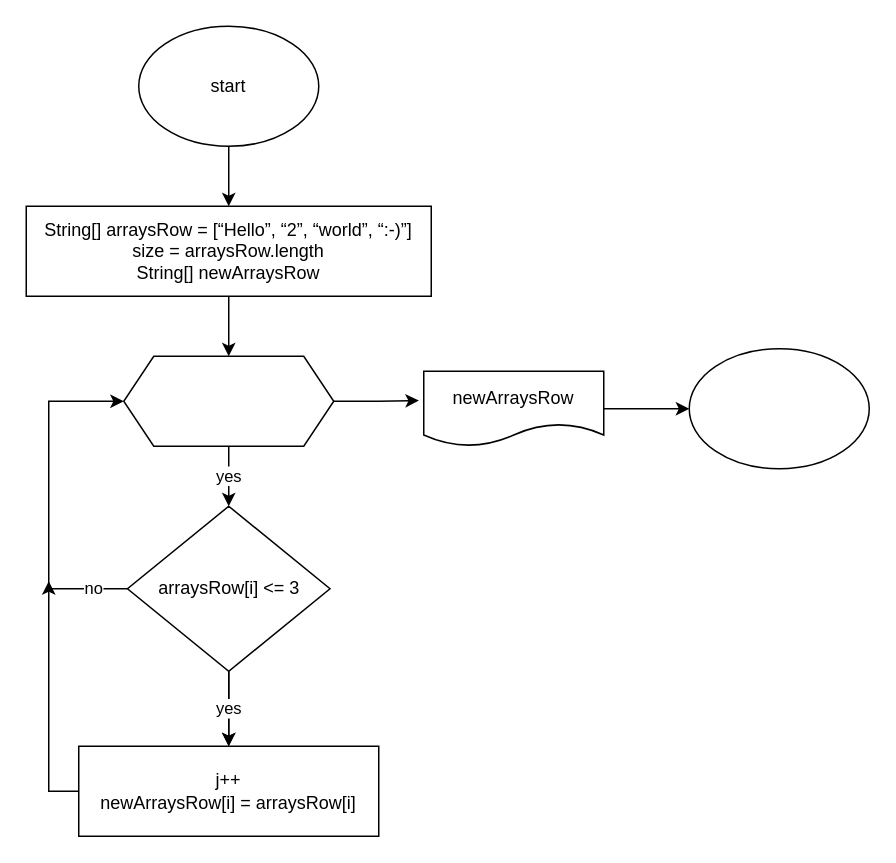
This 896x863 diagram has some shape labels left out. The centre of each missing label's shape, as x and y in pixels:
"final" goes at (x=778, y=408).
"i = 0, j = 0, size - 1, i++" goes at (x=228, y=400).
